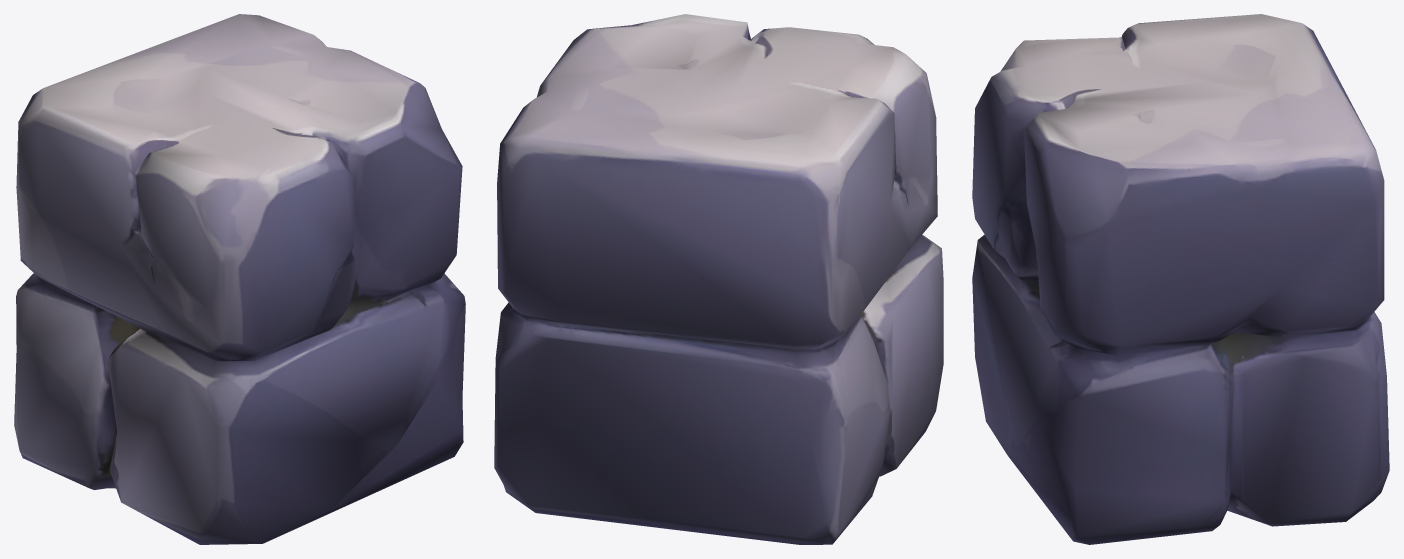
The picture shows the model from 3 angles, left to right: view 1: azimuth 30°, elevation 25°; view 2: azimuth 150°, elevation 25°; view 3: azimuth 270°, elevation 25°; orthographic projection. The views are drawn at different scales.
Parts seen in each view (by area): view 1: tower-rock-1; view 2: tower-rock-1; view 3: tower-rock-1.
Part boxes in pixels (box(x1,y1,x2,y2)): tower-rock-1: box(14, 14, 465, 544); tower-rock-1: box(494, 14, 943, 544); tower-rock-1: box(972, 14, 1389, 544).
Bounding box in the file's own units: 0.2975 × 0.2935 × 0.2994.
Materials: 1 (1 with a texture image).
